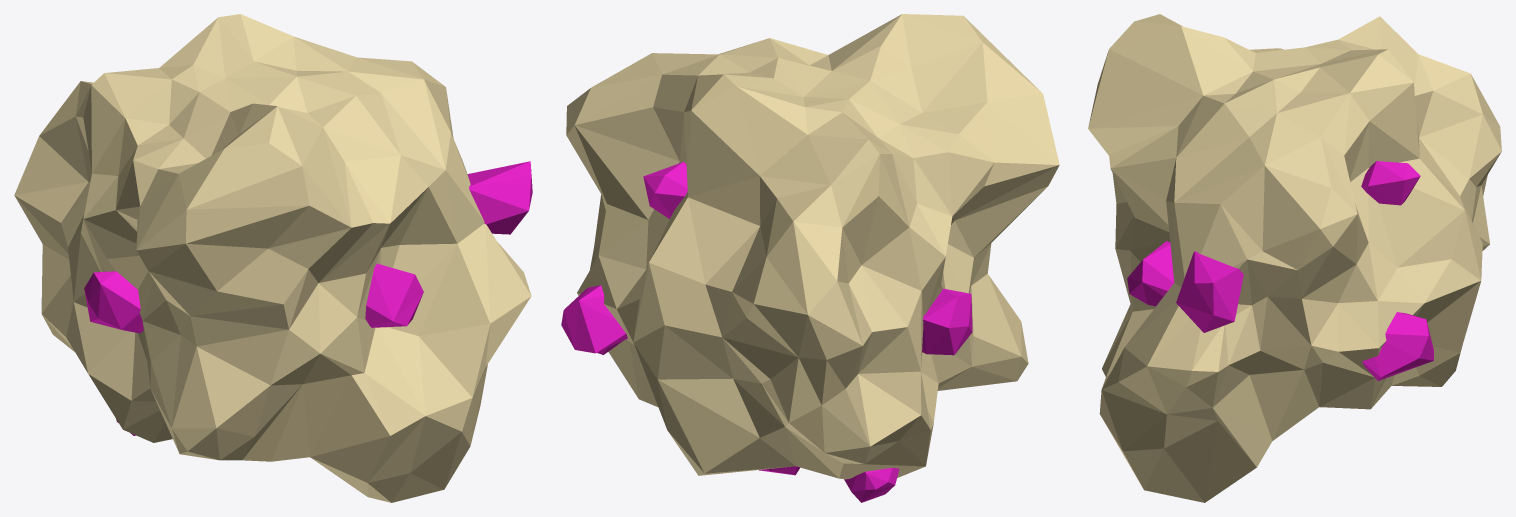
The model's file is CrystalOre (28).fbx.
3 renders of one model, left to right at view 1: azimuth 30°, elevation 25°; view 2: azimuth 150°, elevation 25°; view 3: azimuth 270°, elevation 25°, orthographic. The views are drawn at different scales.
Visible parts, largest first — view 1: Asteroid248; view 2: Asteroid248; view 3: Asteroid248.
Boxes of the visible parts, <box> form: Asteroid248: <box>14,14,532,502</box>; Asteroid248: <box>561,14,1059,502</box>; Asteroid248: <box>1088,14,1501,502</box>.
Size of the model in its own units: 332 by 325 by 294.
